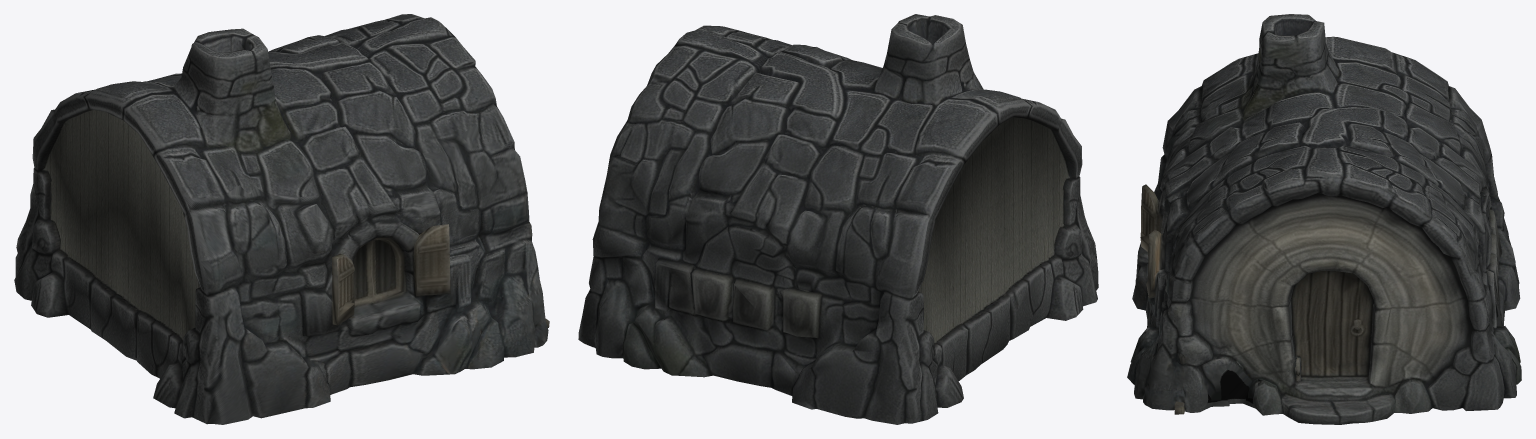
Rendered from Roduro_Vault_5k.glb.
3 views of the same model, side by side, from view 1: azimuth 30°, elevation 25°; view 2: azimuth 150°, elevation 25°; view 3: azimuth 270°, elevation 25° (orthographic). The views are drawn at different scales.
Visible parts, largest first — view 1: roduro_vault_cottage_5k; view 2: roduro_vault_cottage_5k; view 3: roduro_vault_cottage_5k.
Part boxes in pixels (x1,y1,x2,y2): roduro_vault_cottage_5k: (14, 14, 549, 424); roduro_vault_cottage_5k: (578, 14, 1098, 424); roduro_vault_cottage_5k: (1127, 14, 1521, 424).
Size of the model in its own units: 9.56 by 6.96 by 9.05.
1 material, 1 textured.
